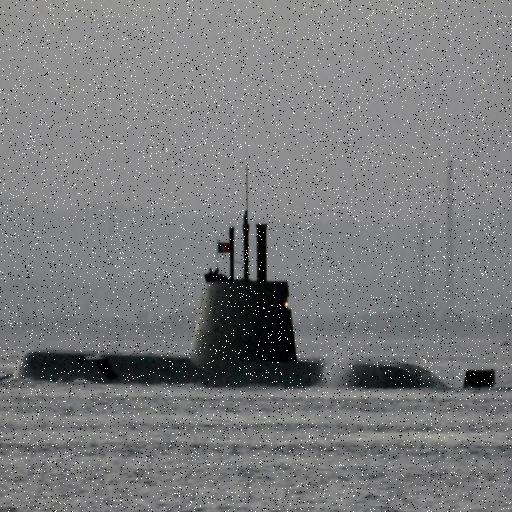submarine: (9, 216, 502, 400)
